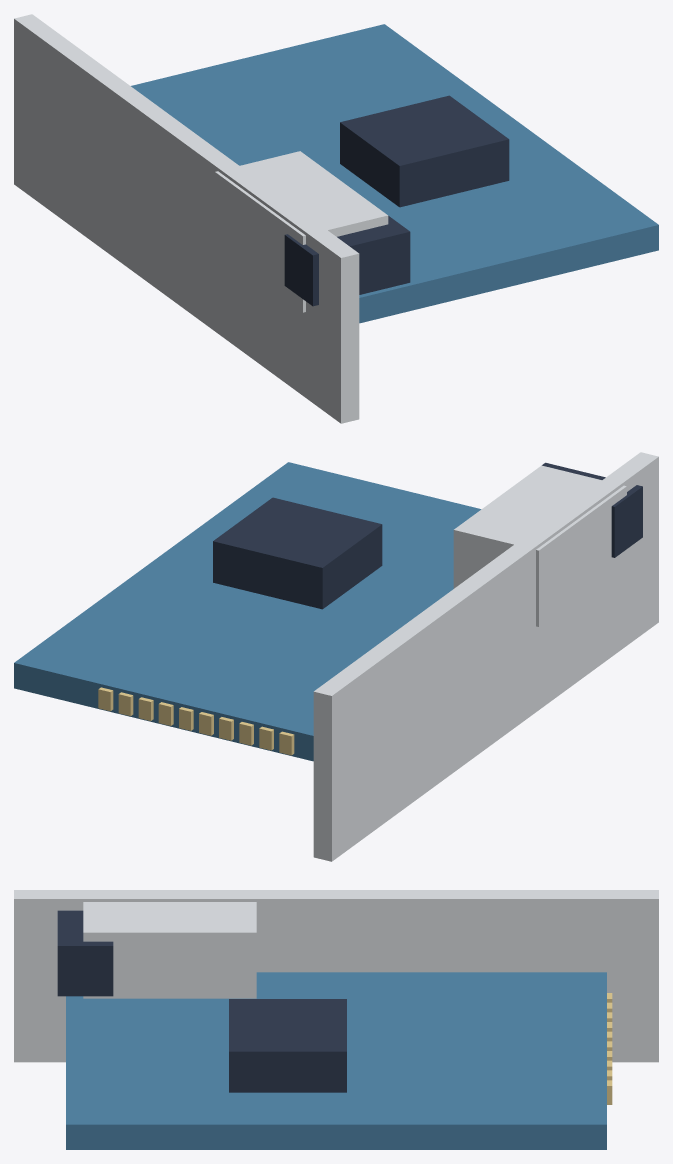
File: nic.glb
3 views of the same model, one above another, from view 1: azimuth 30°, elevation 25°; view 2: azimuth 150°, elevation 25°; view 3: azimuth 270°, elevation 25° (orthographic).
Parts seen in each view (by area): view 1: expansion_bracket_5, network_card_1, ethernet_controller_2, rj45_housing_3, rj45_socket_4; view 2: network_card_1, expansion_bracket_5, rj45_housing_3, ethernet_controller_2, rj45_socket_4; view 3: network_card_1, expansion_bracket_5, rj45_housing_3, ethernet_controller_2, rj45_socket_4.
Part boxes in pixels (x1=…): expansion_bracket_5: x1=14, y1=14, x2=359, y2=423; network_card_1: x1=131, y1=24, x2=658, y2=323; ethernet_controller_2: x1=340, y1=95, x2=509, y2=207; rj45_housing_3: x1=215, y1=151, x2=388, y2=312; rj45_socket_4: x1=284, y1=216, x2=410, y2=306; network_card_1: x1=14, y1=462, x2=481, y2=761; expansion_bracket_5: x1=313, y1=452, x2=658, y2=861; rj45_housing_3: x1=453, y1=465, x2=626, y2=626; ethernet_controller_2: x1=213, y1=497, x2=382, y2=609; rj45_socket_4: x1=542, y1=462, x2=642, y2=557; network_card_1: x1=66, y1=972, x2=606, y2=1149; expansion_bracket_5: x1=14, y1=890, x2=658, y2=1062; rj45_housing_3: x1=83, y1=902, x2=256, y2=998; ethernet_controller_2: x1=229, y1=999, x2=346, y2=1092; rj45_socket_4: x1=57, y1=910, x2=113, y2=996.
Bounding box in the file's own units: 0.575 × 0.26 × 0.93.
